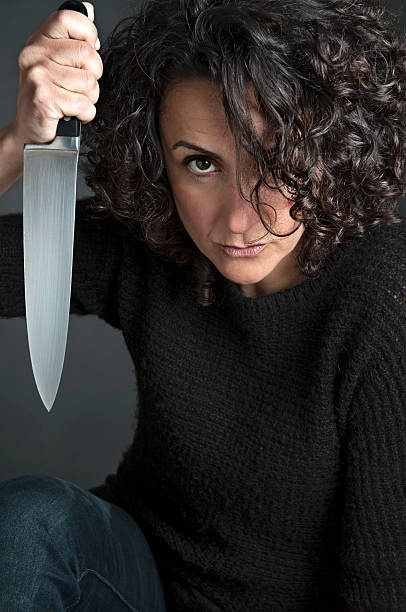knife: (19, 2, 89, 413)
person: (101, 1, 397, 610)
